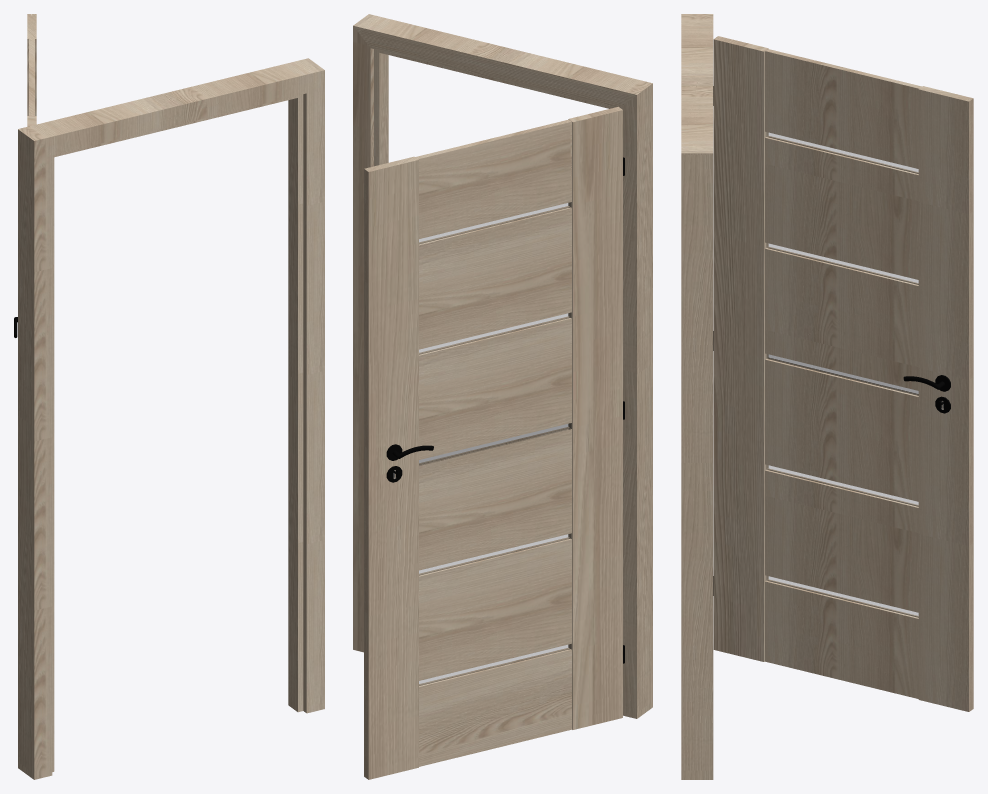
File: door_2.glb
The picture shows the model from 3 angles, left to right: view 1: azimuth 30°, elevation 25°; view 2: azimuth 150°, elevation 25°; view 3: azimuth 270°, elevation 25°; orthographic projection. The views are drawn at different scales.
Parts seen in each view (by area): view 1: root; view 2: root; view 3: root.
Part boxes in pixels (box(x1,y1,x2,y2)): root: box(14, 14, 324, 779); root: box(353, 14, 652, 779); root: box(681, 14, 973, 779).
Bounding box in the file's own units: 1 × 2.1 × 0.8873.
5 materials, 1 textured.
